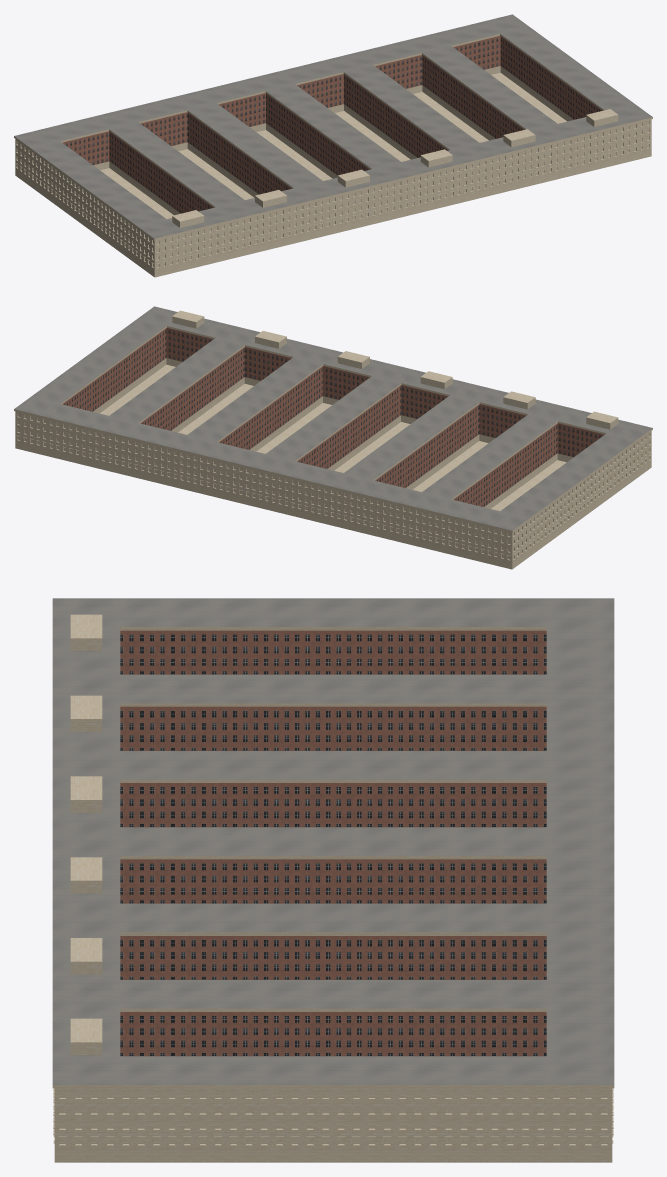
The model's file is usda_south.glb.
The picture shows the model from 3 angles, top to bottom: view 1: azimuth 30°, elevation 25°; view 2: azimuth 150°, elevation 25°; view 3: azimuth 270°, elevation 25°; orthographic projection. The views are drawn at different scales.
Parts seen in each view (by area): view 1: usda_south; view 2: usda_south; view 3: usda_south.
Boxes of the visible parts, bbox=[...] form: usda_south: bbox=[14, 14, 652, 277]; usda_south: bbox=[14, 306, 652, 569]; usda_south: bbox=[52, 598, 614, 1162].
Size of the model in its own units: 289 by 25.4 by 141.
Materials: 4 (4 with a texture image).
